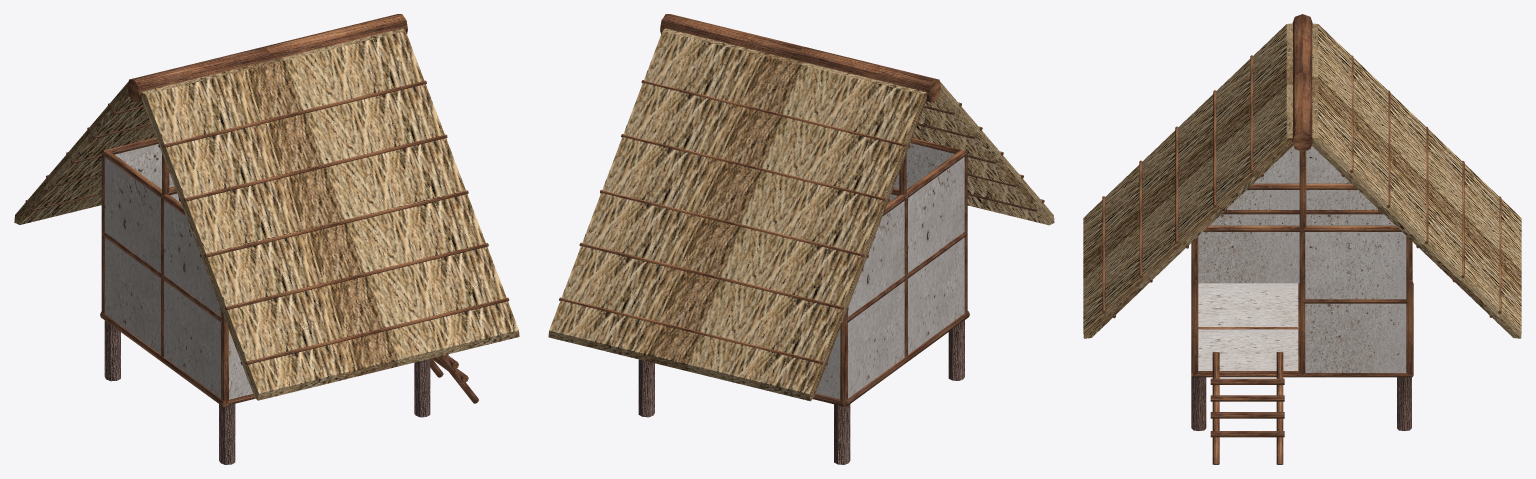
Rendered from GaulishGranarySmall.fbx.
The picture shows the model from 3 angles, left to right: view 1: azimuth 30°, elevation 25°; view 2: azimuth 150°, elevation 25°; view 3: azimuth 270°, elevation 25°; orthographic projection. The views are drawn at different scales.
Visible parts, largest first — view 1: GaulishGranarySmall; view 2: GaulishGranarySmall; view 3: GaulishGranarySmall.
Part boxes in pixels (x1=…): GaulishGranarySmall: x1=14, y1=14, x2=519, y2=464; GaulishGranarySmall: x1=548, y1=14, x2=1054, y2=464; GaulishGranarySmall: x1=1083, y1=14, x2=1521, y2=464.
Bounding box in the file's own units: 574 × 665 × 817.
